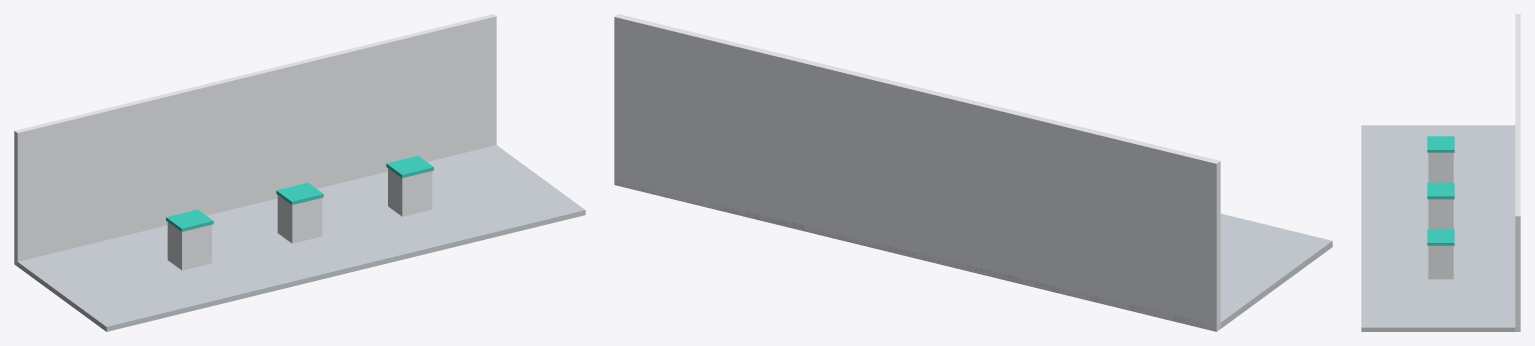
The picture shows the model from 3 angles, left to right: view 1: azimuth 30°, elevation 25°; view 2: azimuth 150°, elevation 25°; view 3: azimuth 270°, elevation 25°; orthographic projection. The views are drawn at different scales.
Visible parts, largest first — view 1: Exhibition Booth Concept; view 2: Exhibition Booth Concept; view 3: Exhibition Booth Concept.
Part boxes in pixels (x1,y1,x2,y2): Exhibition Booth Concept: [14, 14, 585, 331]; Exhibition Booth Concept: [614, 14, 1332, 331]; Exhibition Booth Concept: [1361, 14, 1520, 331].
Bounding box in the file's own units: 12 × 3.2 × 4.
